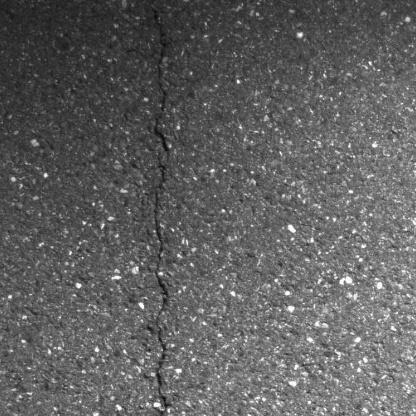Cracks: (145, 1, 179, 416)
